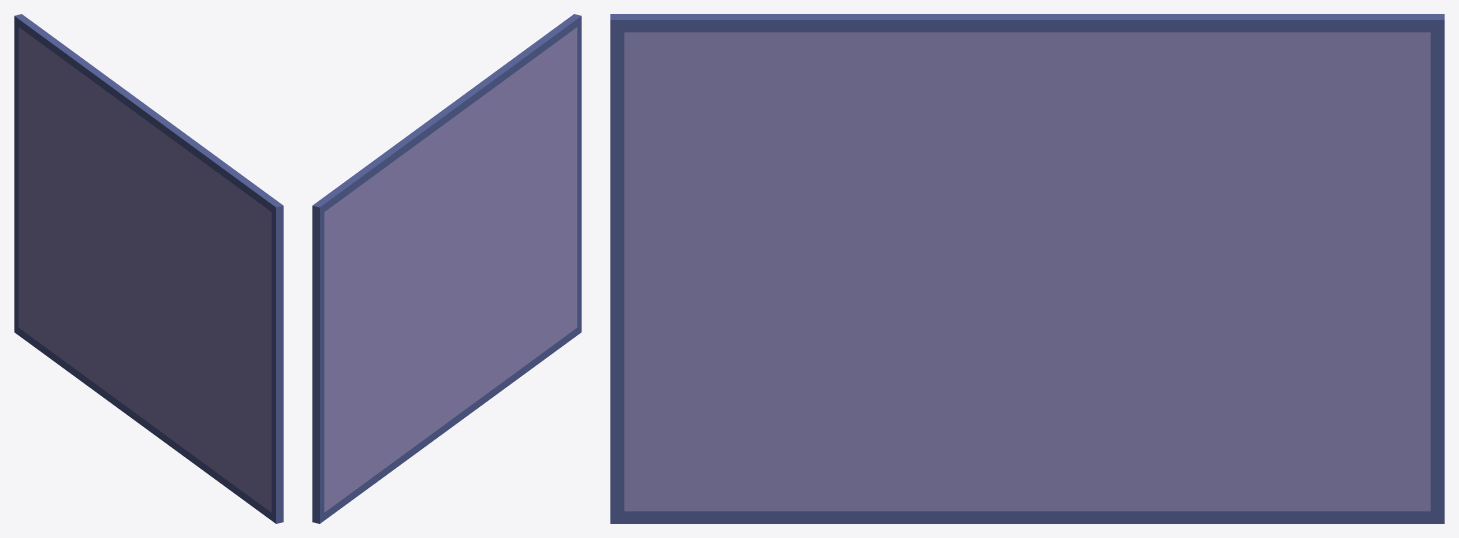
The model's file is SchoolPack-45-bathroom mirror.obj.
3 renders of one model, left to right at view 1: azimuth 30°, elevation 25°; view 2: azimuth 150°, elevation 25°; view 3: azimuth 270°, elevation 25°, orthographic. The views are drawn at different scales.
Parts seen in each view (by area): view 1: bathroom mirror; view 2: bathroom mirror; view 3: bathroom mirror.
Boxes of the visible parts, <box> form: bathroom mirror: <box>14,14,283,523</box>; bathroom mirror: <box>312,14,581,523</box>; bathroom mirror: <box>610,14,1444,523</box>.
Size of the model in its own units: 0.1 by 4 by 6.
1 material, 1 textured.
